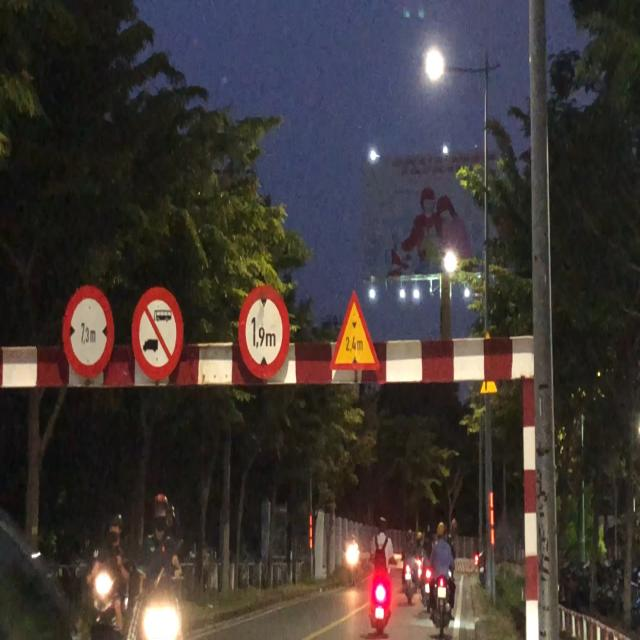Bien bao cam xe oto khach va xe oto tai: (132, 282, 185, 386)
Bien bao chieu cao tinh khong thuc te: (327, 281, 384, 379)
Bien bao han che chieu cao: (238, 284, 292, 384)
